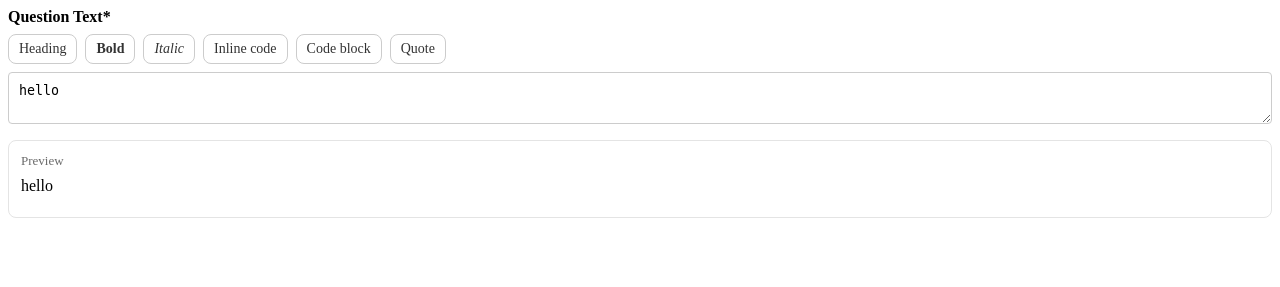
Test: markdown formatting › inserts formatting from the shared editor toolbar
Click the button "Bold".
click(110, 49)  # box x1=85 y1=34 x2=135 y2=64
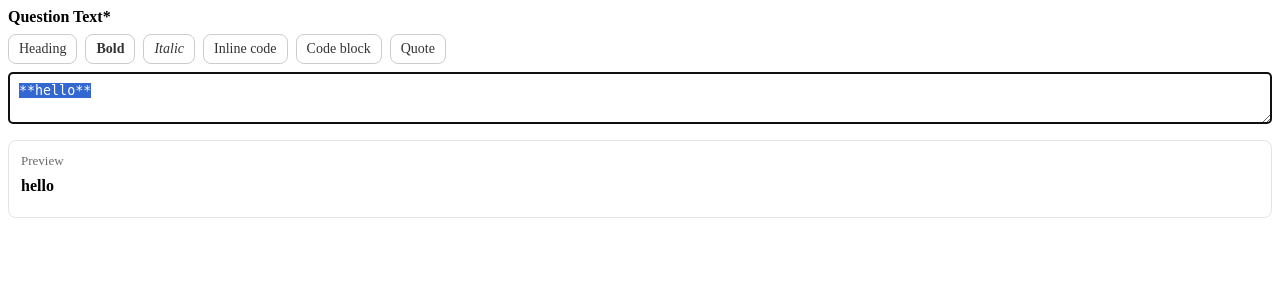
Expected: the text "hello" is shown, x1=21 y1=177 x2=54 y2=194
Now the text box with id "formTextInput" holds "**hello**", box x1=8 y1=72 x2=1272 y2=124
Click the button "Code block".
click(339, 49)  # box x1=296 y1=34 x2=382 y2=64
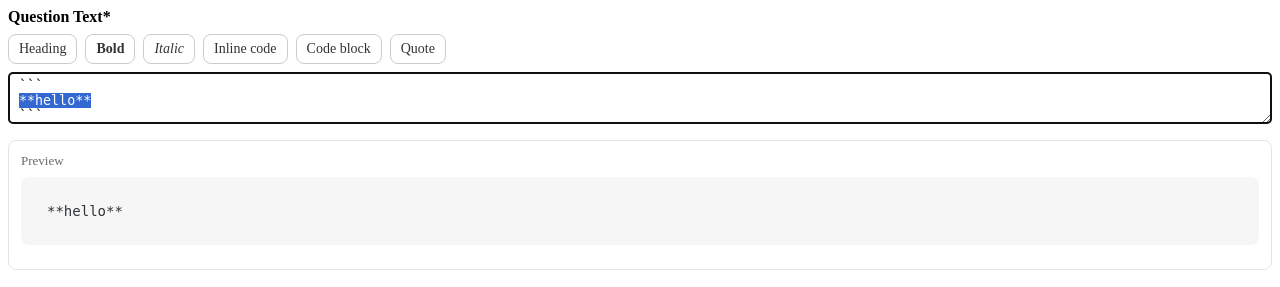
Now the text with class "s-code-block" reads "**hello**", box x1=47 y1=203 x2=123 y2=219
